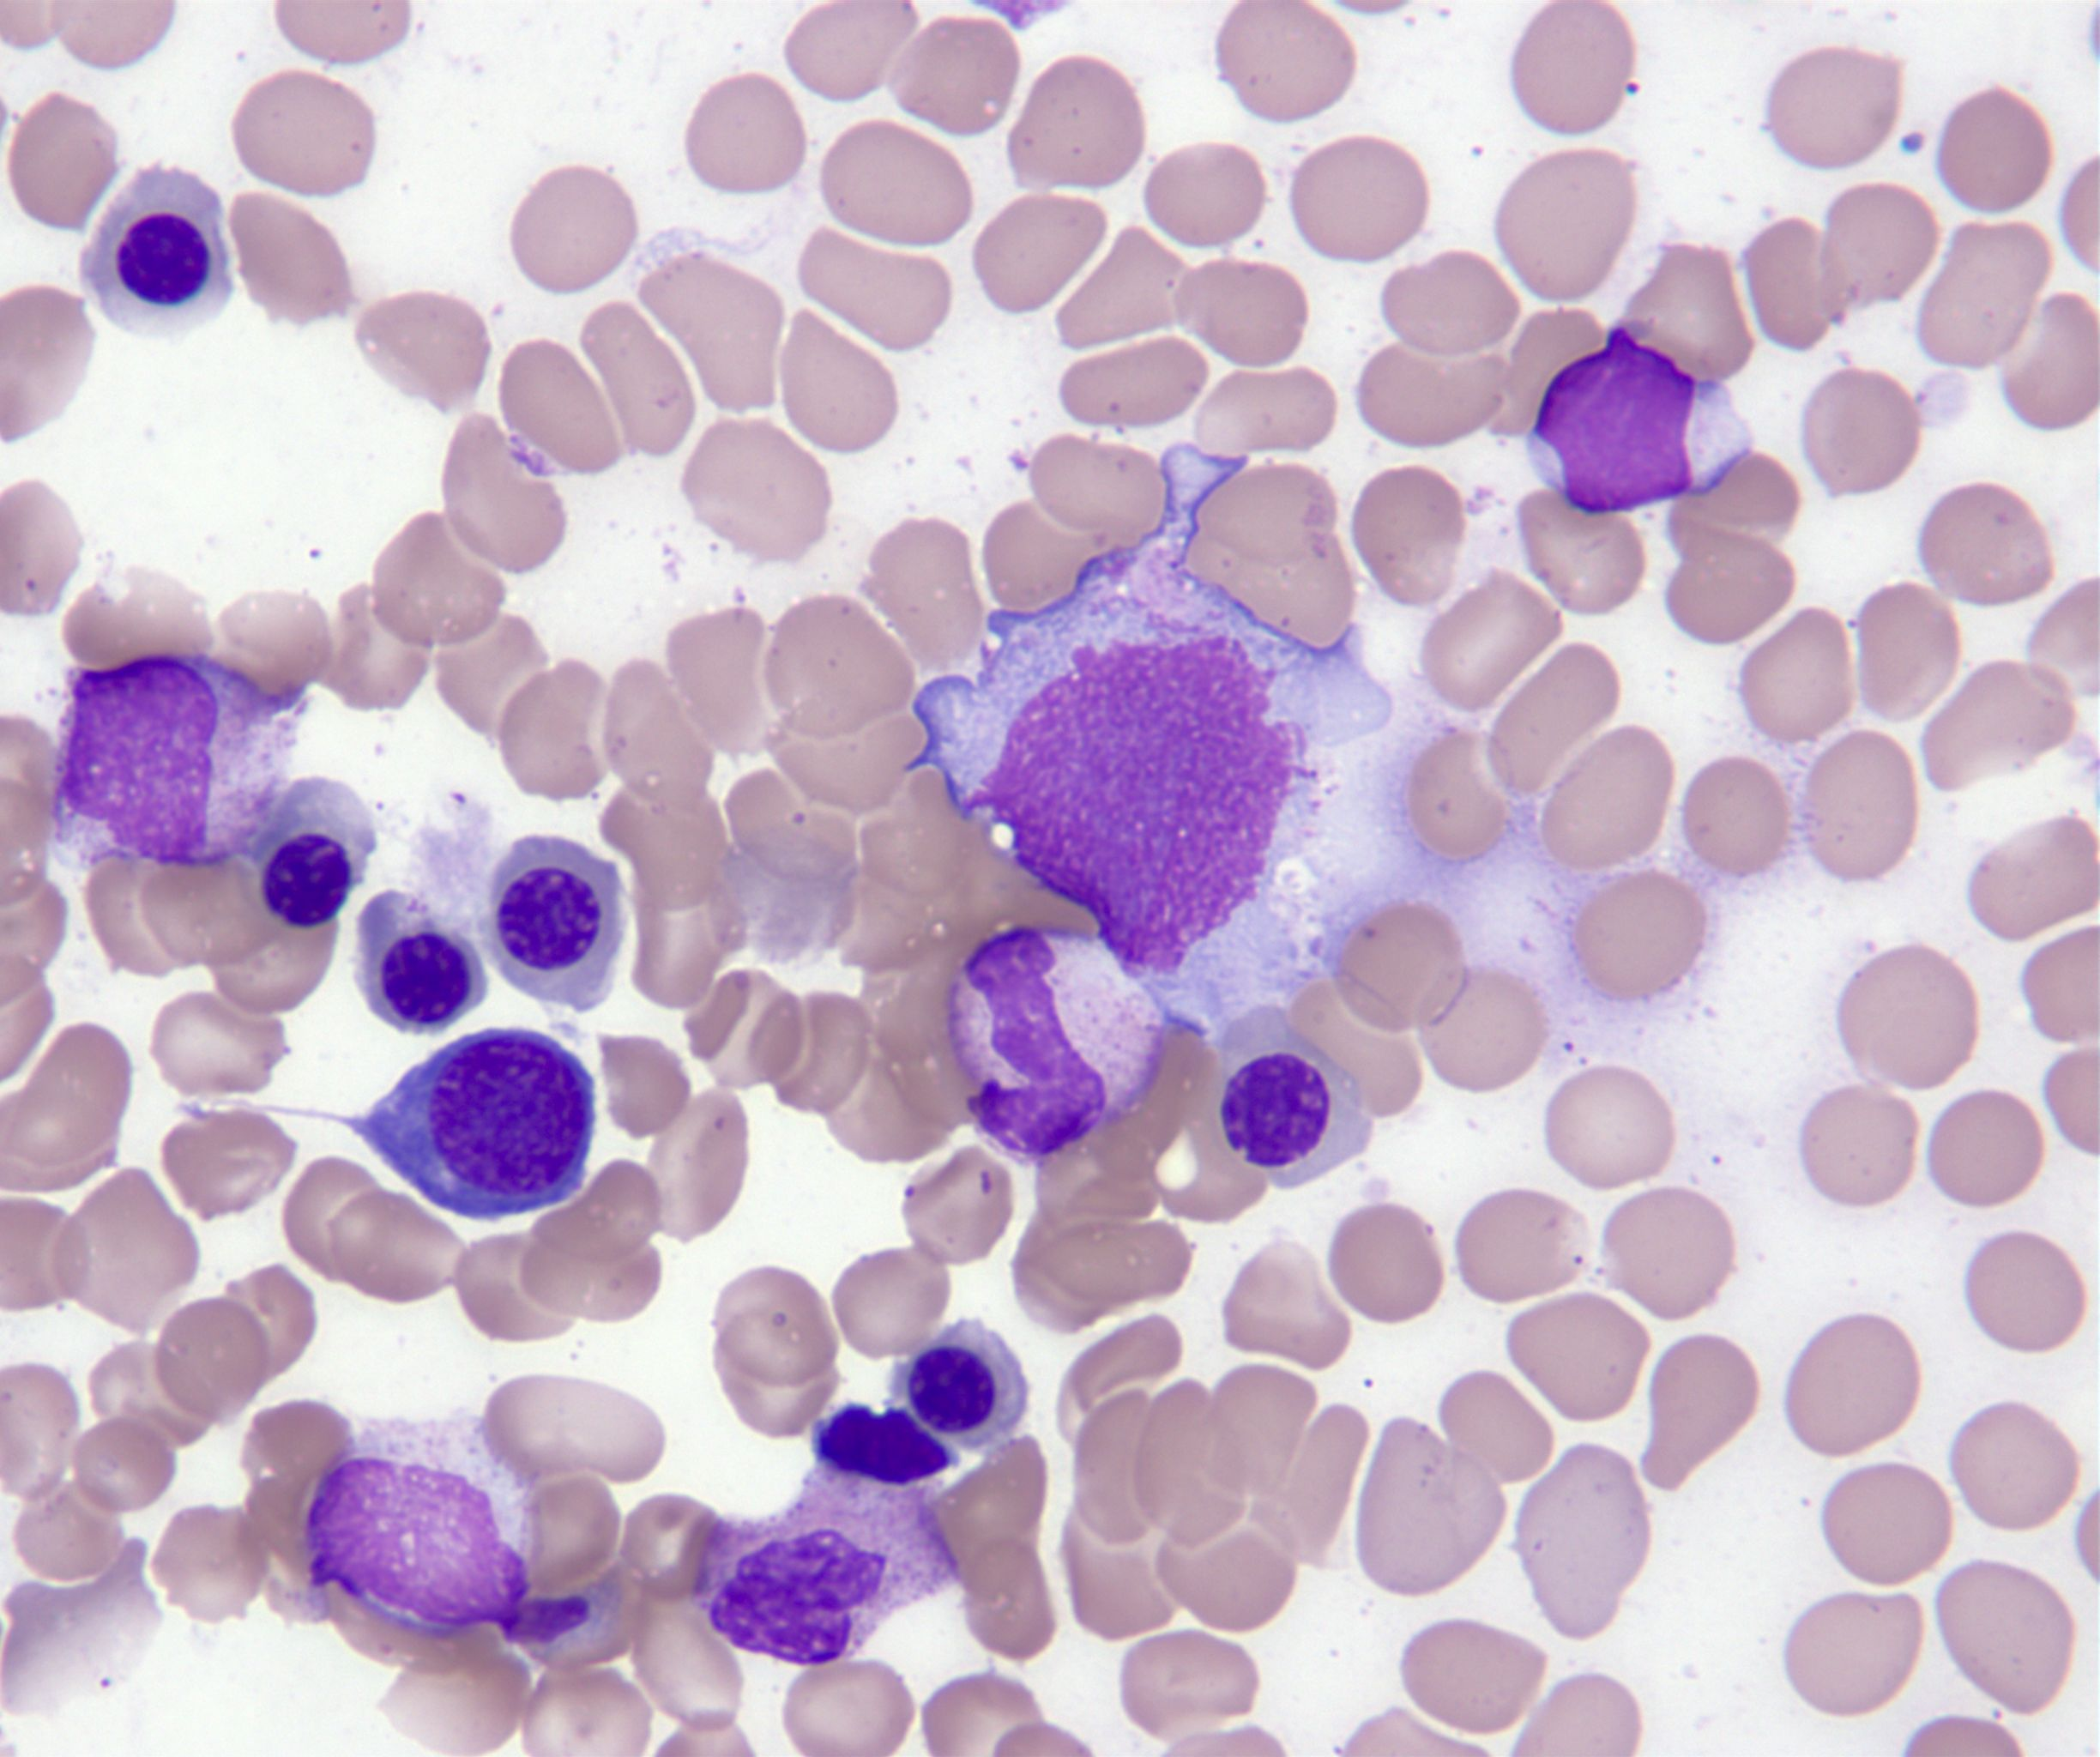23: (342, 1028, 595, 1221)
24: (1219, 1002, 1373, 1190), (474, 836, 626, 1014), (80, 167, 230, 337), (244, 776, 375, 928), (354, 890, 487, 1033), (891, 1319, 1029, 1455)
3: (51, 656, 309, 869)
32: (1524, 325, 1751, 515), (811, 1405, 952, 1485)
4: (305, 1408, 619, 1661), (692, 1459, 959, 1665)
5: (947, 928, 1162, 1167)
x: (902, 445, 1392, 1036)
